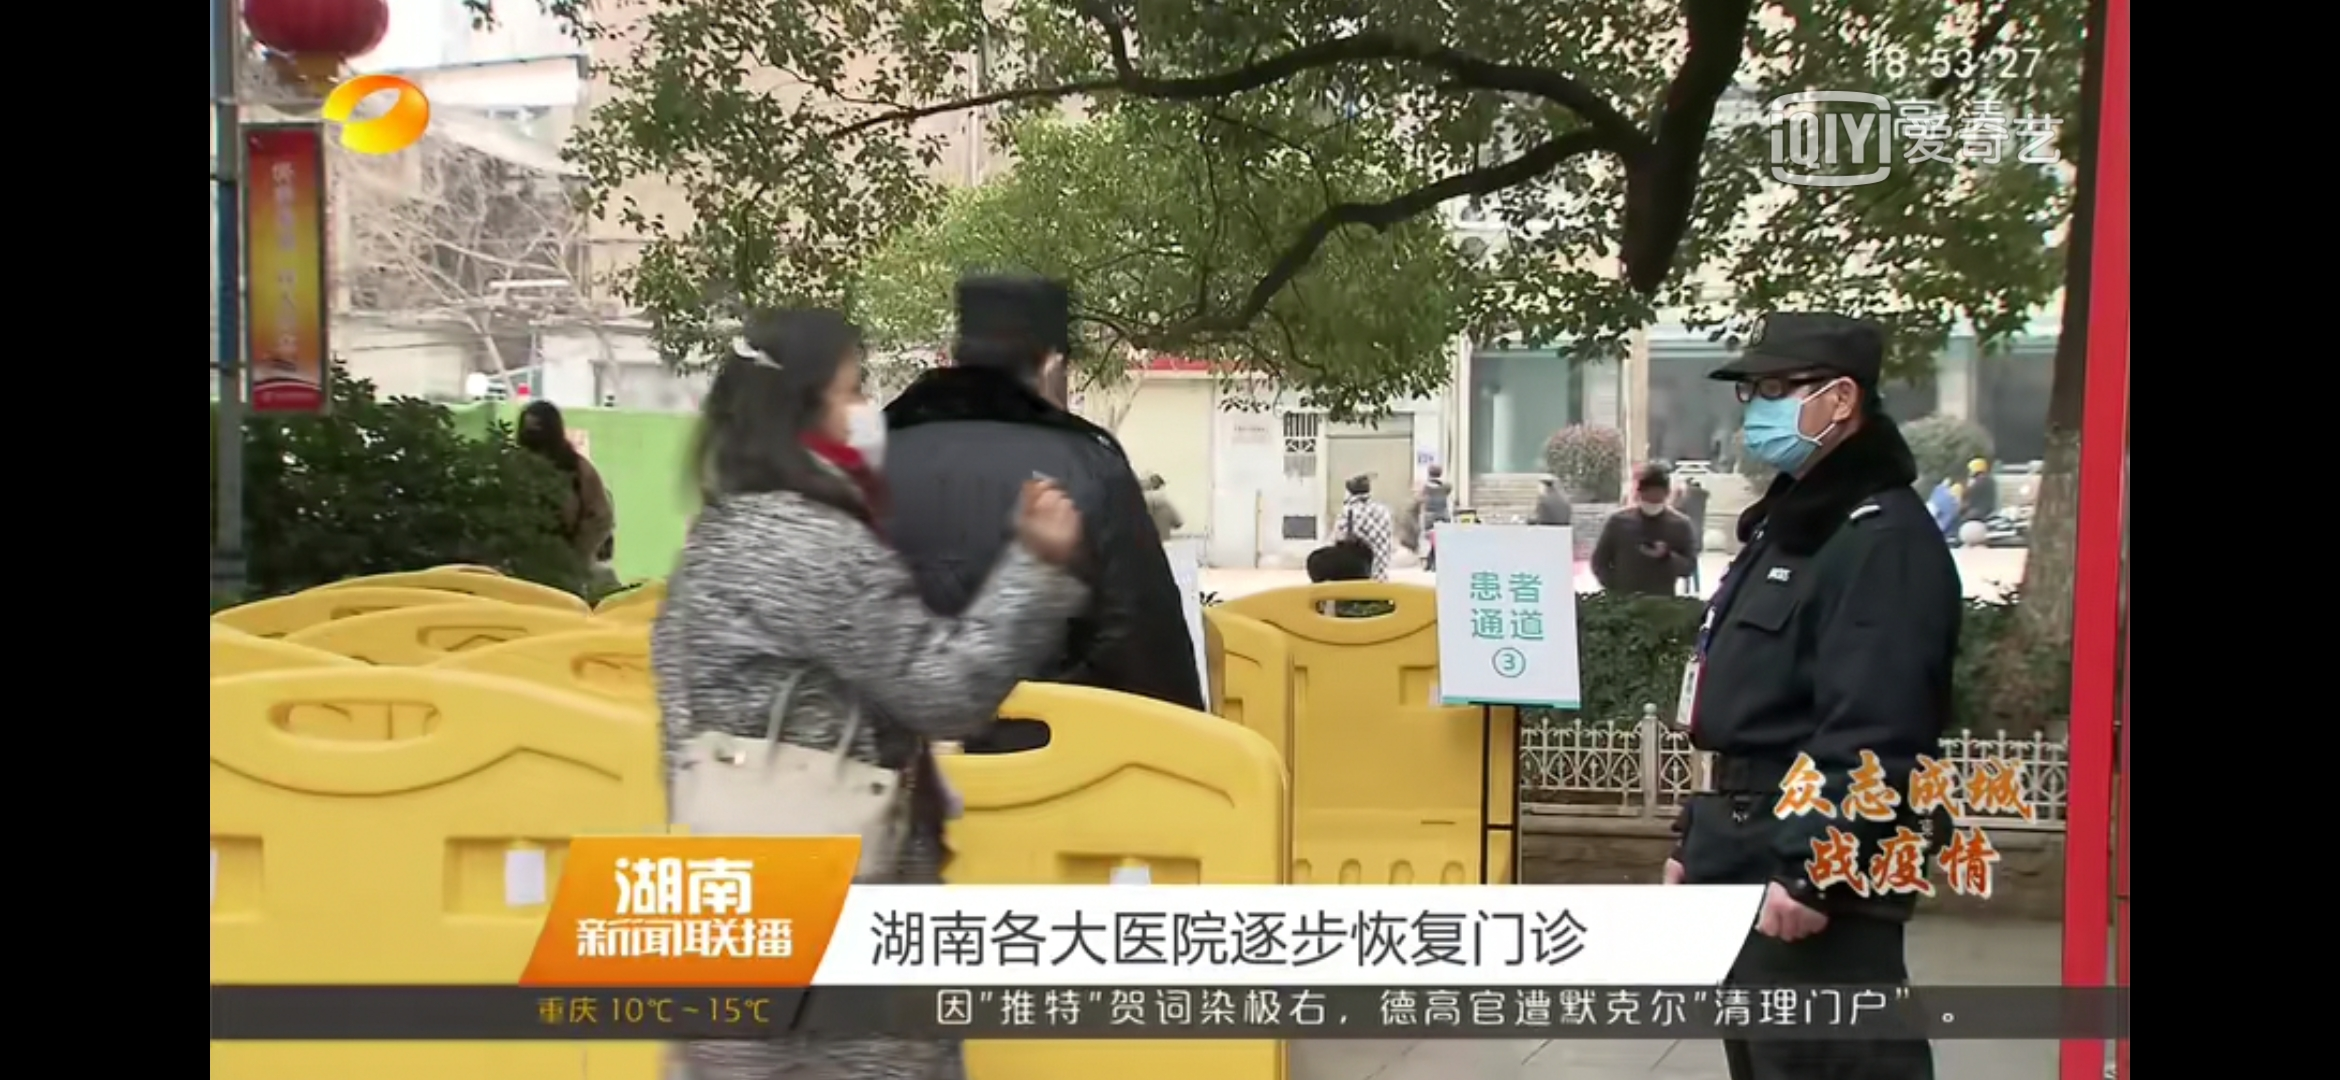correctlyWear: (1733, 365, 1871, 486), (825, 351, 901, 474), (1639, 477, 1665, 518), (522, 413, 548, 448)
